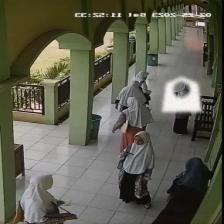Mukena: (162, 77, 201, 111)
